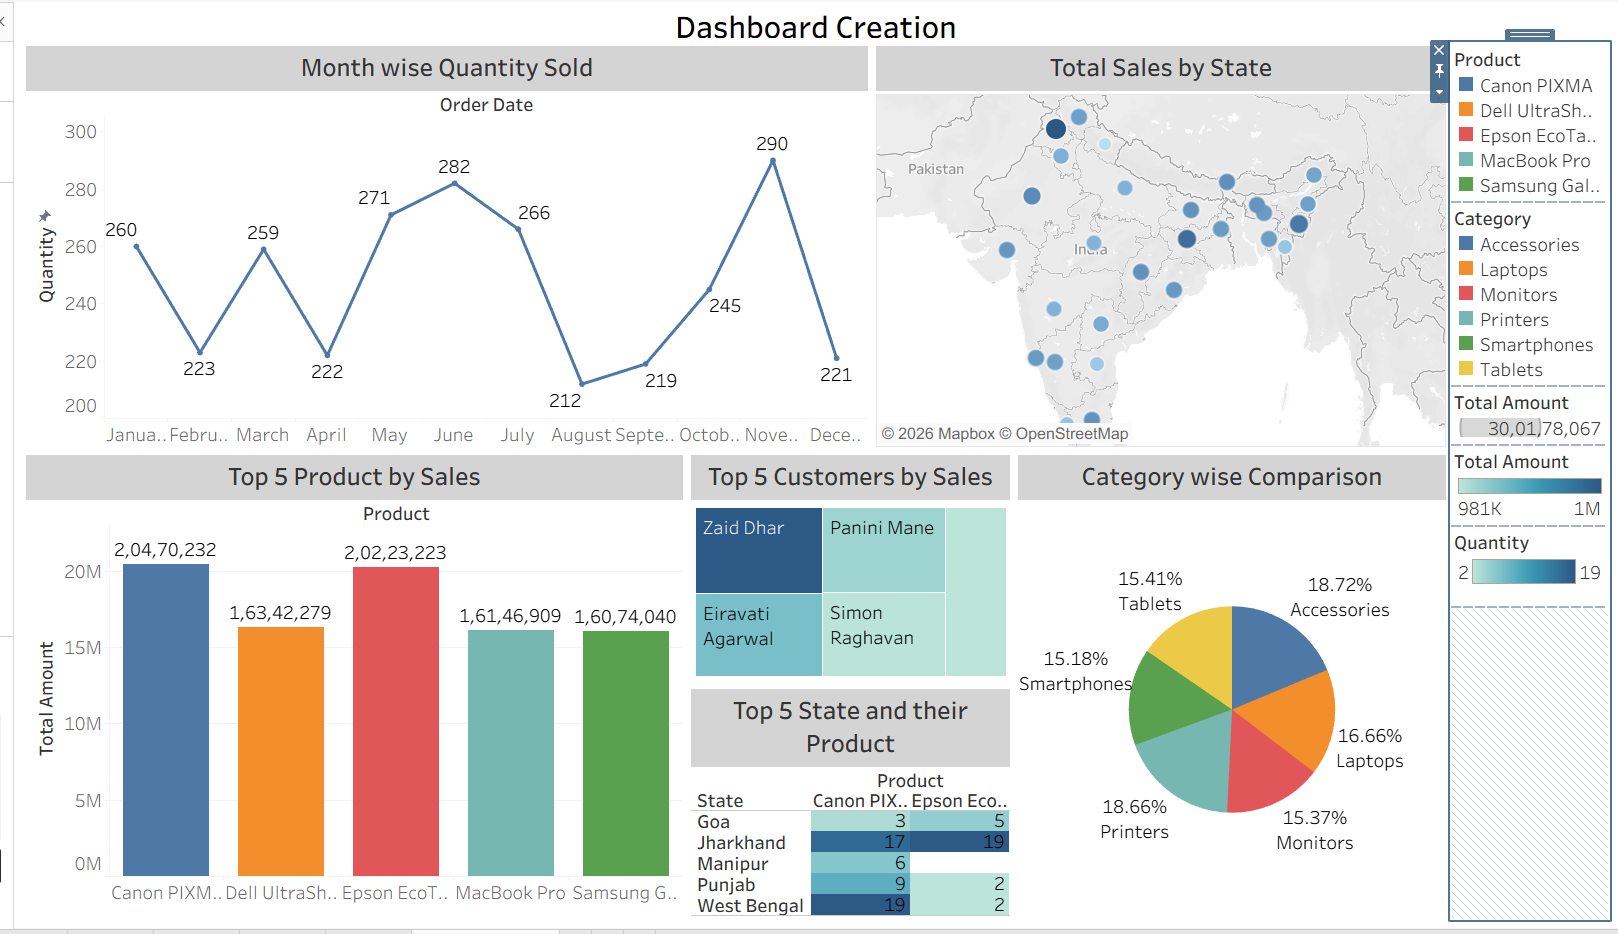

Layout of this report page (visuals, bound fields, positions):
{"tool":"tableau","page":{"name":"Dashboard 1","canvas":[1000,1000],"units":"permille","ordinal":0},"visuals":[{"type":"text","box":[5,8.6,990,34.5]},{"type":"worksheet","title":"Sheet 1","mark":"Automatic","rows":["Quantity"],"cols":["Order Date"],"box":[5,43.2,529.9,441.8]},{"type":"worksheet","title":"Sheet 5","mark":"Automatic","box":[534.9,43.2,360.4,441.8]},{"type":"legend","title":"Sheet 2","param":"[federated.0ggodgf01j2cfe1fhuwor17s7cxz].[none:Product:nk]","box":[895.3,43.2,99.8,171.7]},{"type":"legend","title":"Sheet 3","param":"[federated.0ggodgf01j2cfe1fhuwor17s7cxz].[none:Category:nk]","box":[895.3,214.9,99.8,198.7]},{"type":"legend","title":"Sheet 3","param":"[federated.0ggodgf01j2cfe1fhuwor17s7cxz].[sum:Calculation_1183654413889536:qk]","box":[895.3,413.6,99.8,63.7]},{"type":"legend","title":"Sheet 4","param":"[federated.0ggodgf01j2cfe1fhuwor17s7cxz].[sum:Calculation_1183654413889536:qk]","box":[895.3,477.3,99.8,87.5]},{"type":"worksheet","title":"Sheet 2","mark":"Automatic","rows":["Calculation_1183654413889536"],"cols":["Product"],"box":[5,484.9,414.5,506.4]},{"type":"worksheet","title":"Sheet 4","mark":"Automatic","box":[419.5,484.9,203.9,252.7]},{"type":"worksheet","title":"Sheet 3","mark":"Pie","box":[623.4,484.9,271.9,506.4]},{"type":"legend","title":"Sheet 6","param":"[federated.0ggodgf01j2cfe1fhuwor17s7cxz].[sum:Quantity:qk]","box":[895.3,564.8,99.8,87.5]},{"type":"worksheet","title":"Sheet 6","mark":"Square","rows":["State"],"cols":["Product"],"box":[419.5,737.6,203.9,253.8]}]}

Visuals, with their boxes on the dashboard's canvas, which has no fixed pixel size, in thousandths of its width and height (x1, y1, x2, y2). These are canvas units, not pixel positions in the 1618x934 screenshot, which may show the page scaled, cropped or inside an application window:
text: 5:9:995:43
"Sheet 1" worksheet: 5:43:535:485
"Sheet 5" worksheet: 535:43:895:485
"Sheet 2" legend: 895:43:995:215
"Sheet 3" legend: 895:215:995:414
"Sheet 3" legend: 895:414:995:477
"Sheet 4" legend: 895:477:995:565
"Sheet 2" worksheet: 5:485:420:991
"Sheet 4" worksheet: 420:485:623:738
"Sheet 3" worksheet (Pie marks): 623:485:895:991
"Sheet 6" legend: 895:565:995:652
"Sheet 6" worksheet (Square marks): 420:738:623:991
